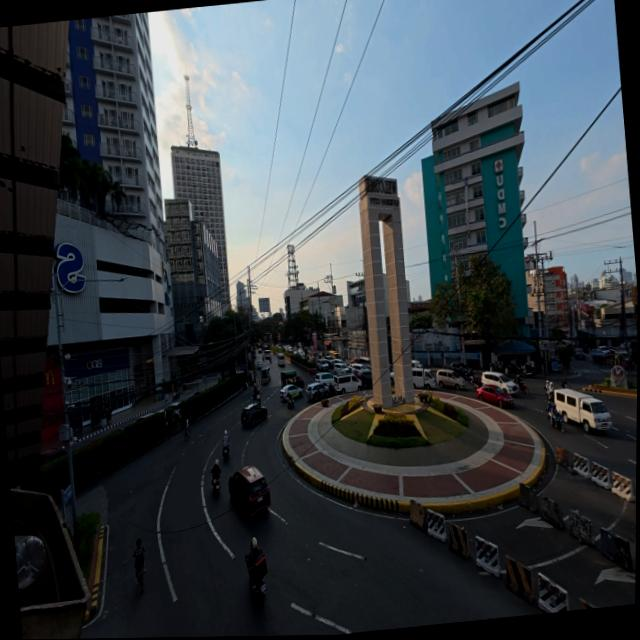car: (225, 463, 270, 523), (474, 370, 520, 408), (431, 366, 465, 393), (241, 402, 271, 430), (278, 382, 303, 402)
